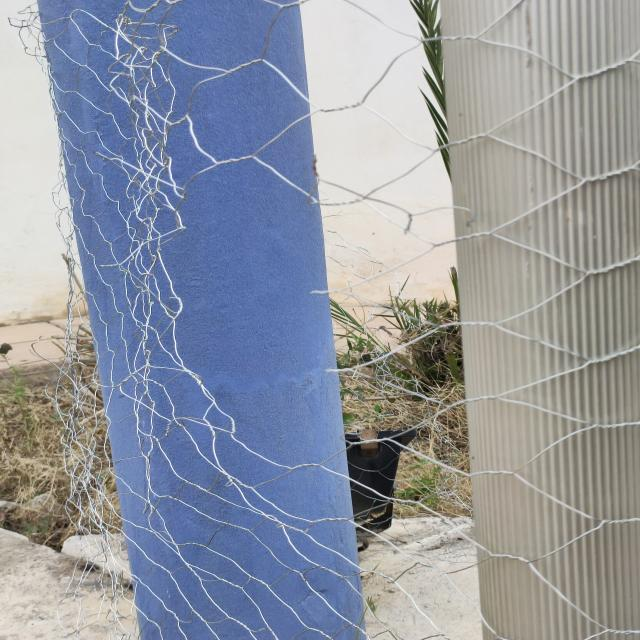fence line: (161, 186, 395, 467)
